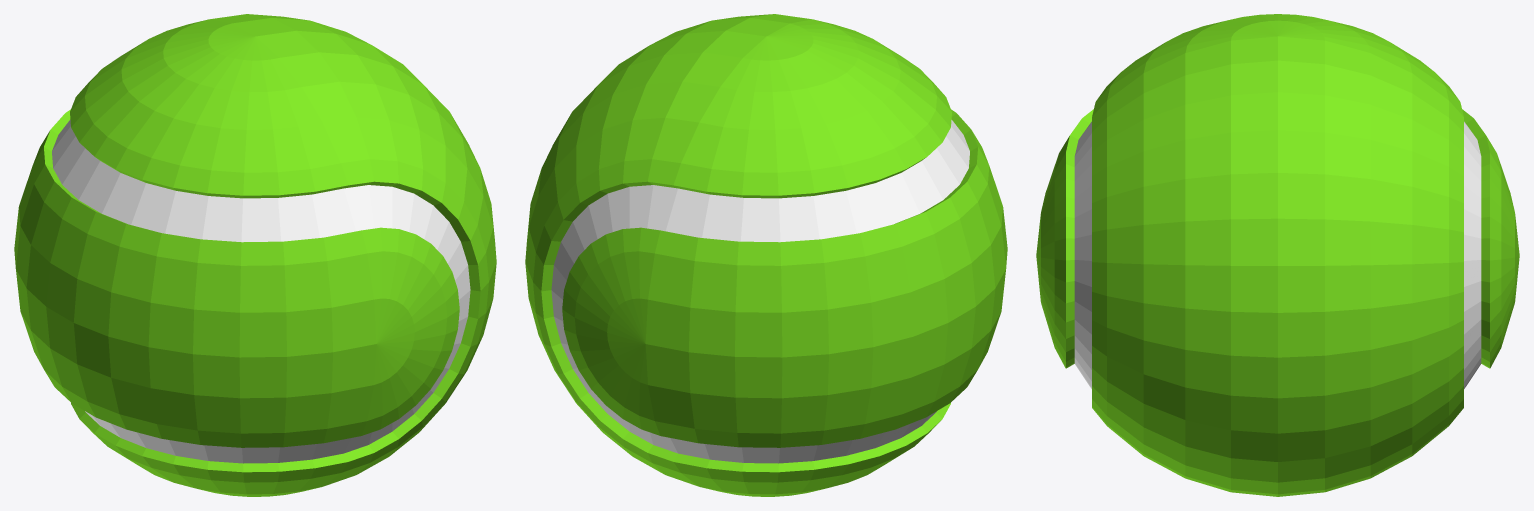
Rendered from TennisBall01.fbx.
3 renders of one model, left to right at view 1: azimuth 30°, elevation 25°; view 2: azimuth 150°, elevation 25°; view 3: azimuth 270°, elevation 25°, orthographic.
Visible parts, largest first — view 1: Sphere.001; view 2: Sphere.001; view 3: Sphere.001.
Part boxes in pixels (box(x1,y1,x2,y2)): Sphere.001: box(14, 14, 496, 496); Sphere.001: box(525, 14, 1007, 496); Sphere.001: box(1036, 14, 1519, 496).
Size of the model in its own units: 90.63 by 90.63 by 90.63.
